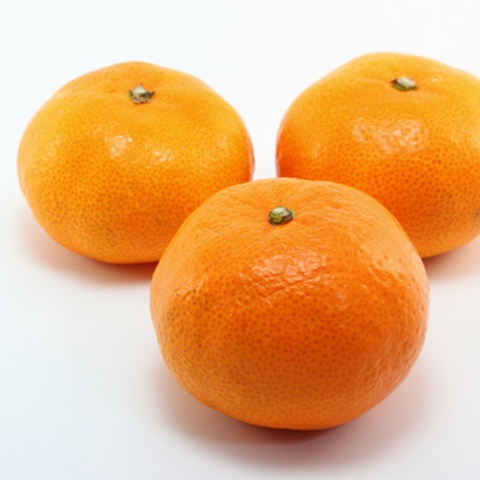mandarin: (150, 180, 425, 431), (14, 62, 251, 260), (274, 50, 480, 255)
